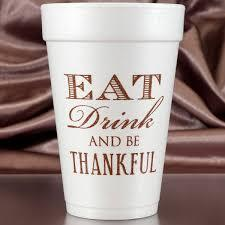Plastic cup: (33, 1, 189, 223)
